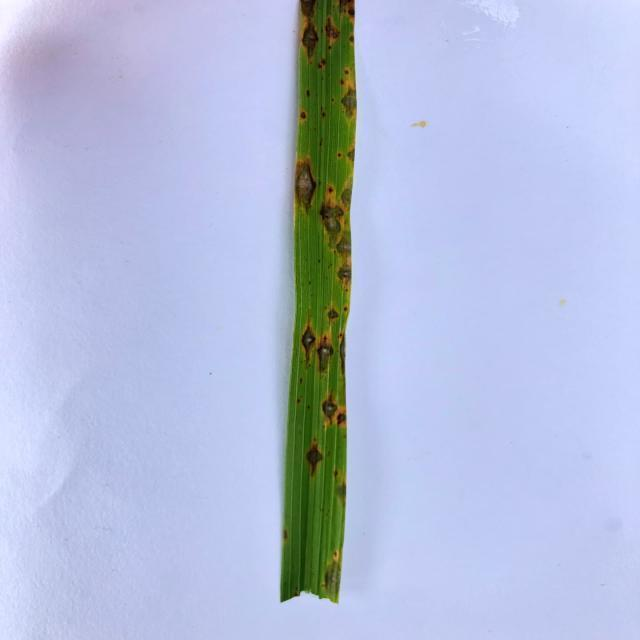Leaf_Blast: (295, 317, 353, 367), (310, 397, 372, 440), (283, 444, 348, 479), (287, 104, 336, 141), (335, 77, 366, 127), (294, 158, 321, 207), (323, 180, 341, 252), (333, 1, 359, 22)
